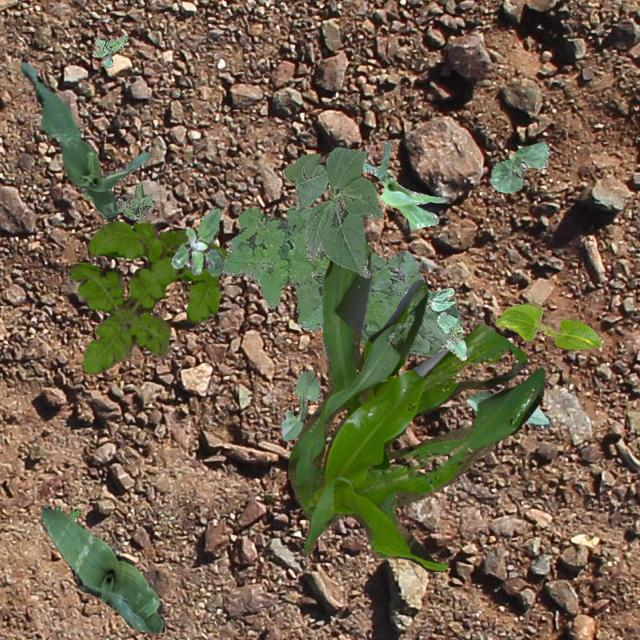crop: (286, 242, 544, 570), (20, 61, 150, 220), (40, 506, 164, 632), (280, 146, 382, 276), (362, 140, 446, 228), (494, 301, 600, 348), (464, 390, 552, 428), (489, 140, 548, 192), (280, 370, 320, 440), (436, 310, 466, 360), (424, 287, 458, 317)
weed: (222, 206, 462, 354), (68, 220, 225, 374), (170, 206, 222, 274), (80, 182, 154, 222), (92, 34, 126, 66), (54, 506, 80, 518)
